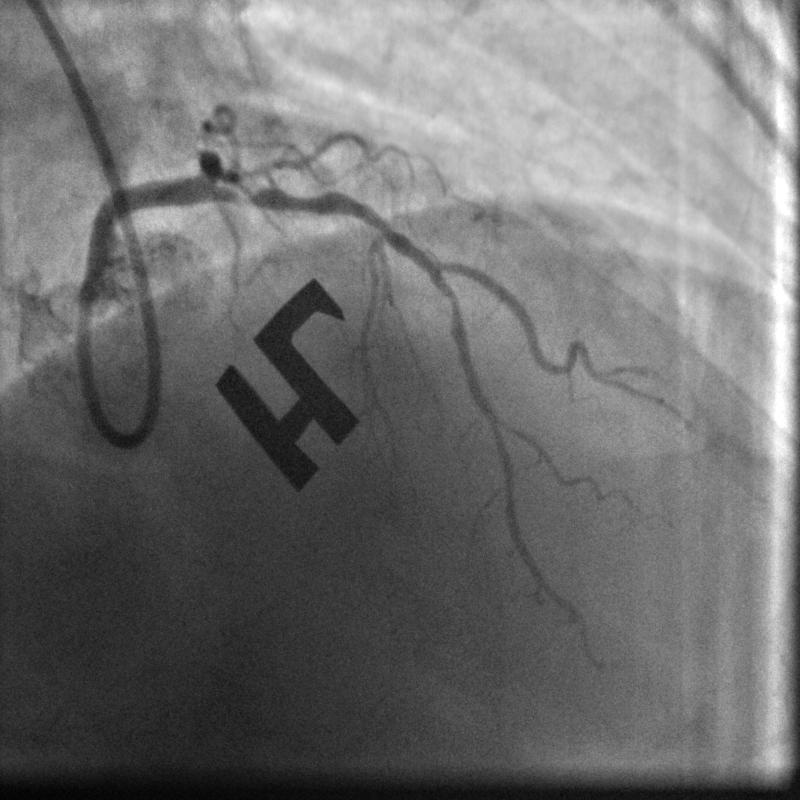Stenosis: (225, 177, 331, 213)
